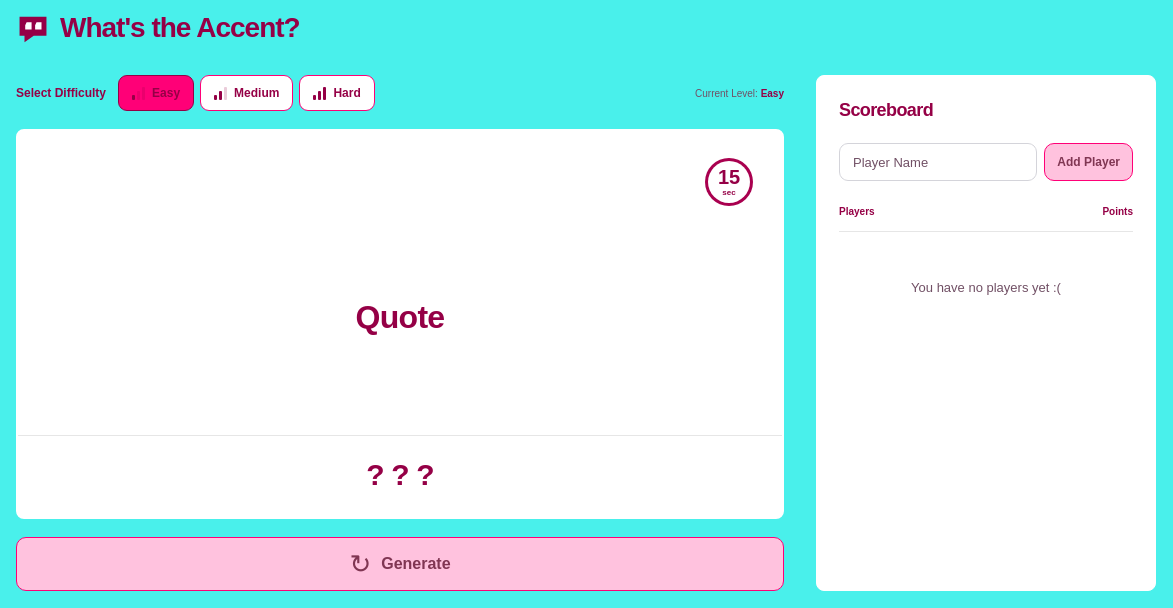
Test: adds players and keeps their scores independent and nonnegative
Expected: the button "↻ Generate" is disabled, top-left (16, 537), bottom-right (784, 591)
Expected: the button "Add Player" is disabled, top-left (1044, 143), bottom-right (1133, 181)
In the field with placeholder "Player Name": (938, 162) top-left (839, 143), bottom-right (1037, 181), type "Alice"
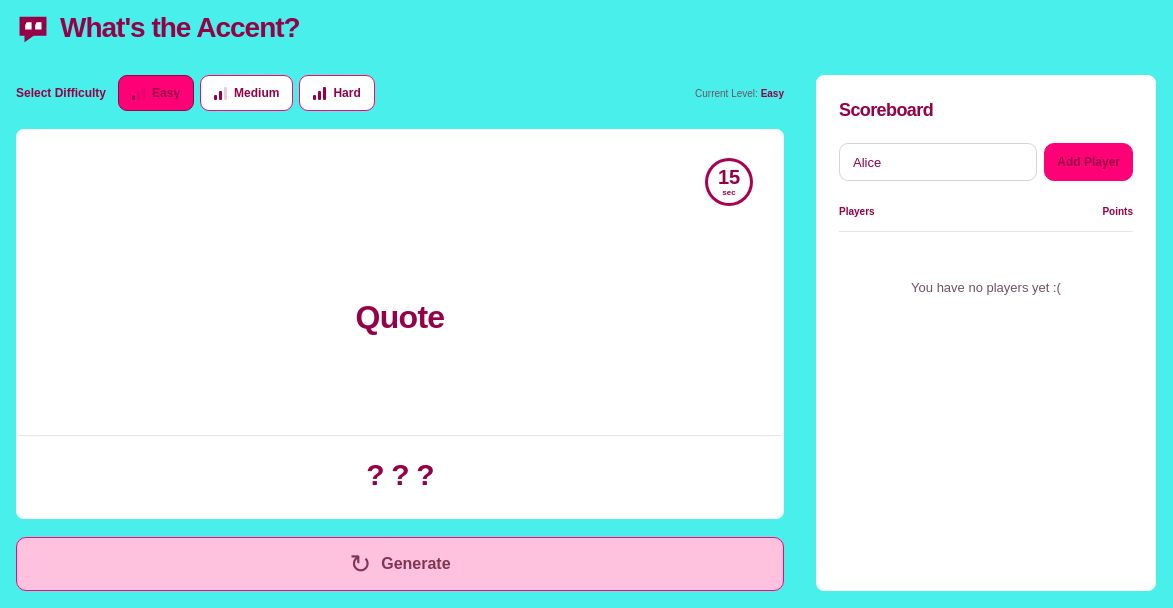
Click the button "Add Player": (1089, 162) top-left (1044, 143), bottom-right (1133, 181)
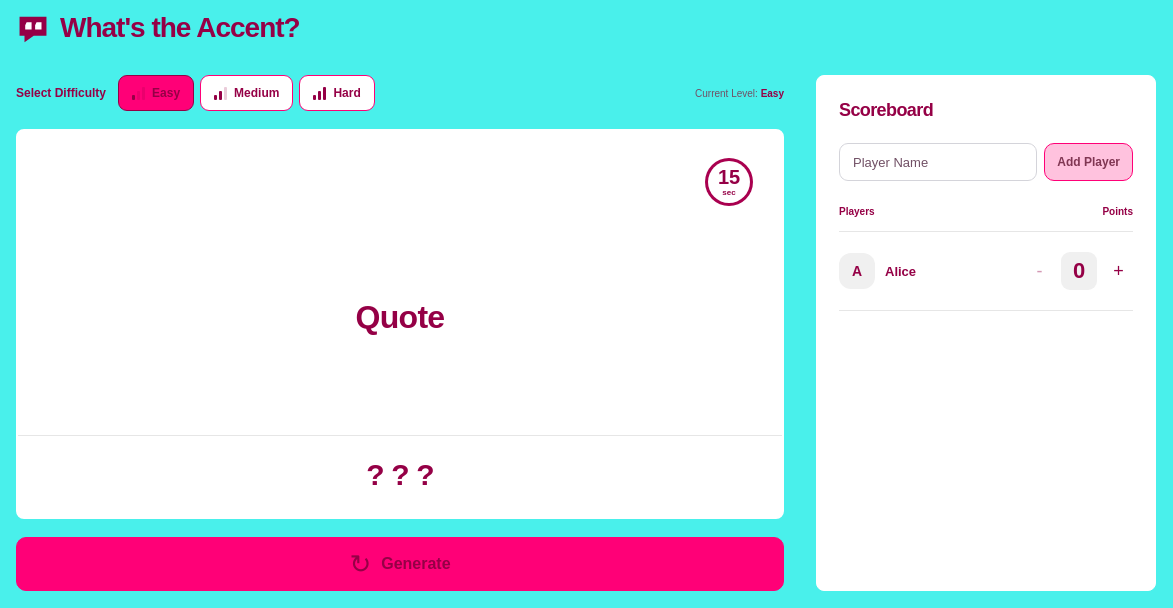
In the field with placeholder "Player Name": (938, 162) top-left (839, 143), bottom-right (1037, 181), type "Bob"
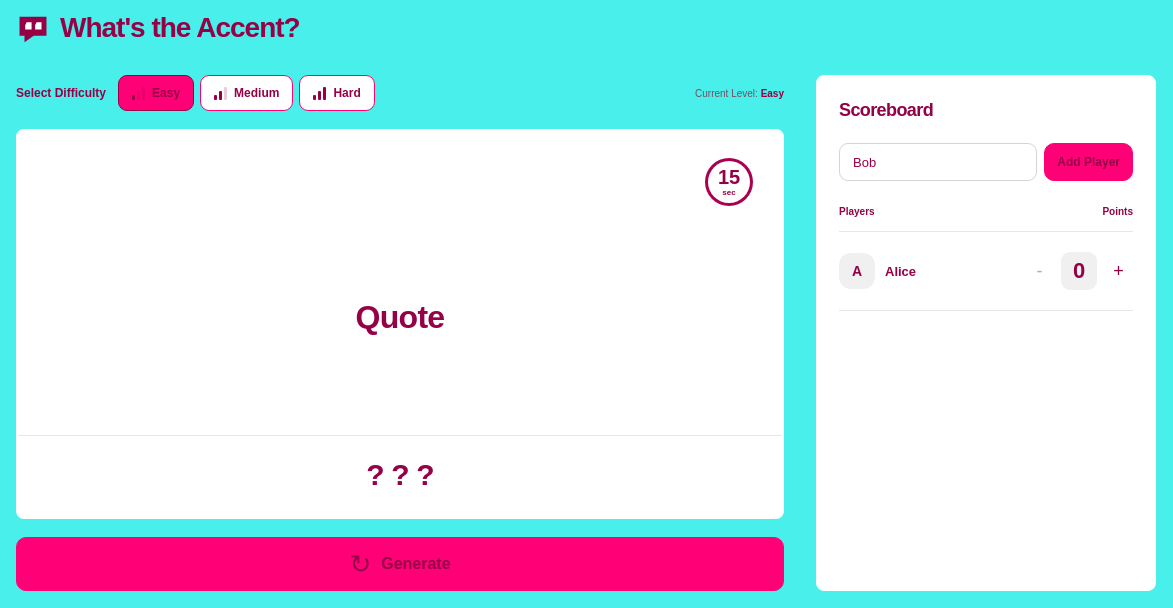
Click the button "Add Player": (1089, 162) top-left (1044, 143), bottom-right (1133, 181)
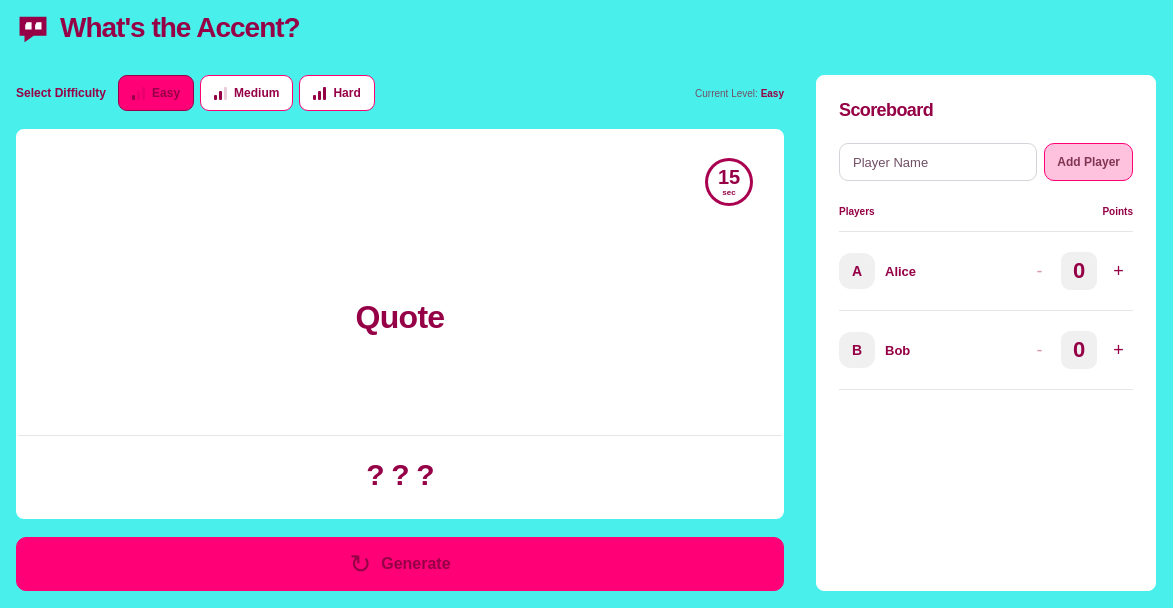
Expected: the button "-" next to "Alice" is disabled, top-left (1025, 256), bottom-right (1054, 286)
Expected: the heading "Alice" is shown, top-left (885, 264), bottom-right (916, 278)
Expected: the heading "Bob" is shown, top-left (885, 342), bottom-right (910, 358)
Click the button "+" in the row of "Alice": (1118, 271) top-left (1104, 256), bottom-right (1133, 286)
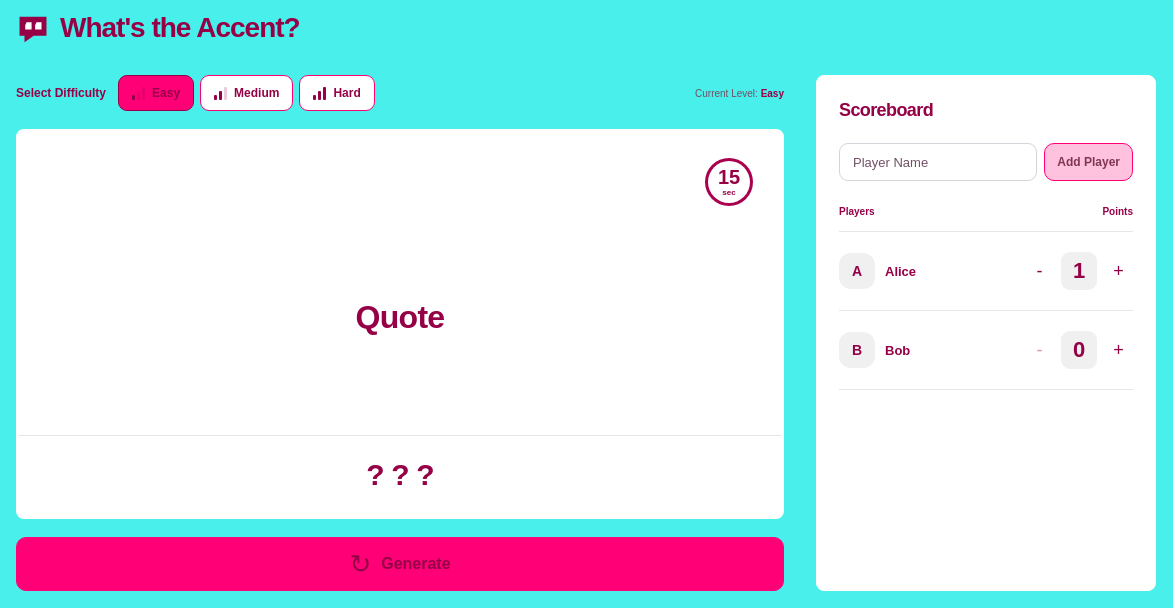
Expected: the heading "0" is shown, top-left (1061, 331), bottom-right (1097, 369)
Expected: the heading "1" is shown, top-left (1061, 252), bottom-right (1097, 290)
Click the button "-" next to "Alice": (1040, 271) top-left (1025, 256), bottom-right (1054, 286)
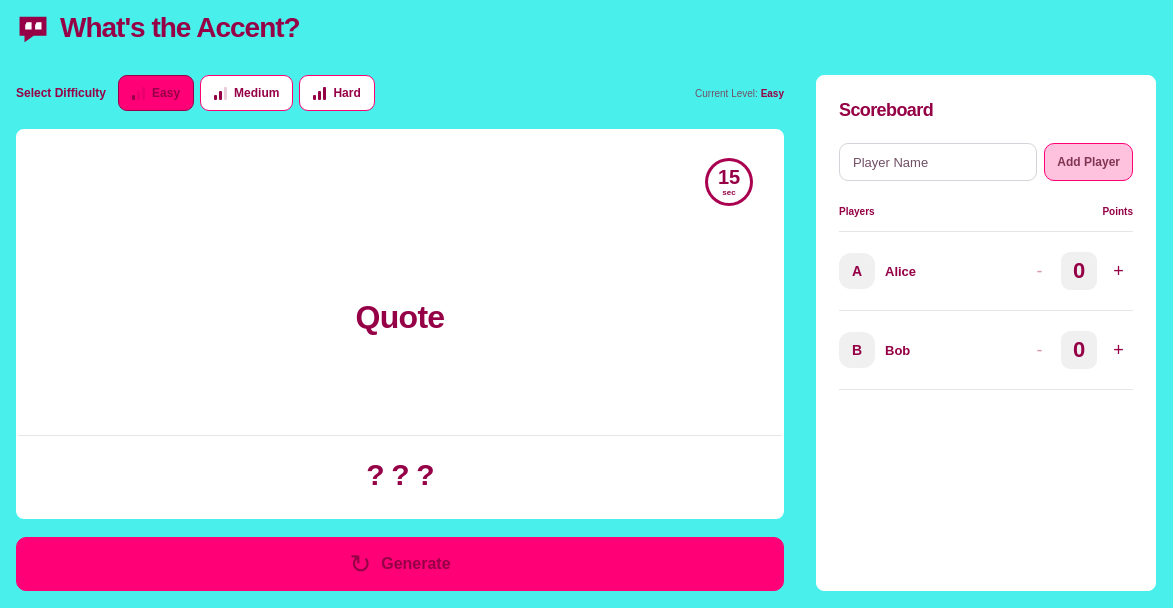
Expected: the field with placeholder "Player Name" is empty, top-left (839, 143), bottom-right (1037, 181)
Expected: the button "↻ Generate" is enabled, top-left (16, 537), bottom-right (784, 591)
Expected: the heading "0" next to "Alice" is shown, top-left (1073, 258), bottom-right (1085, 283)
